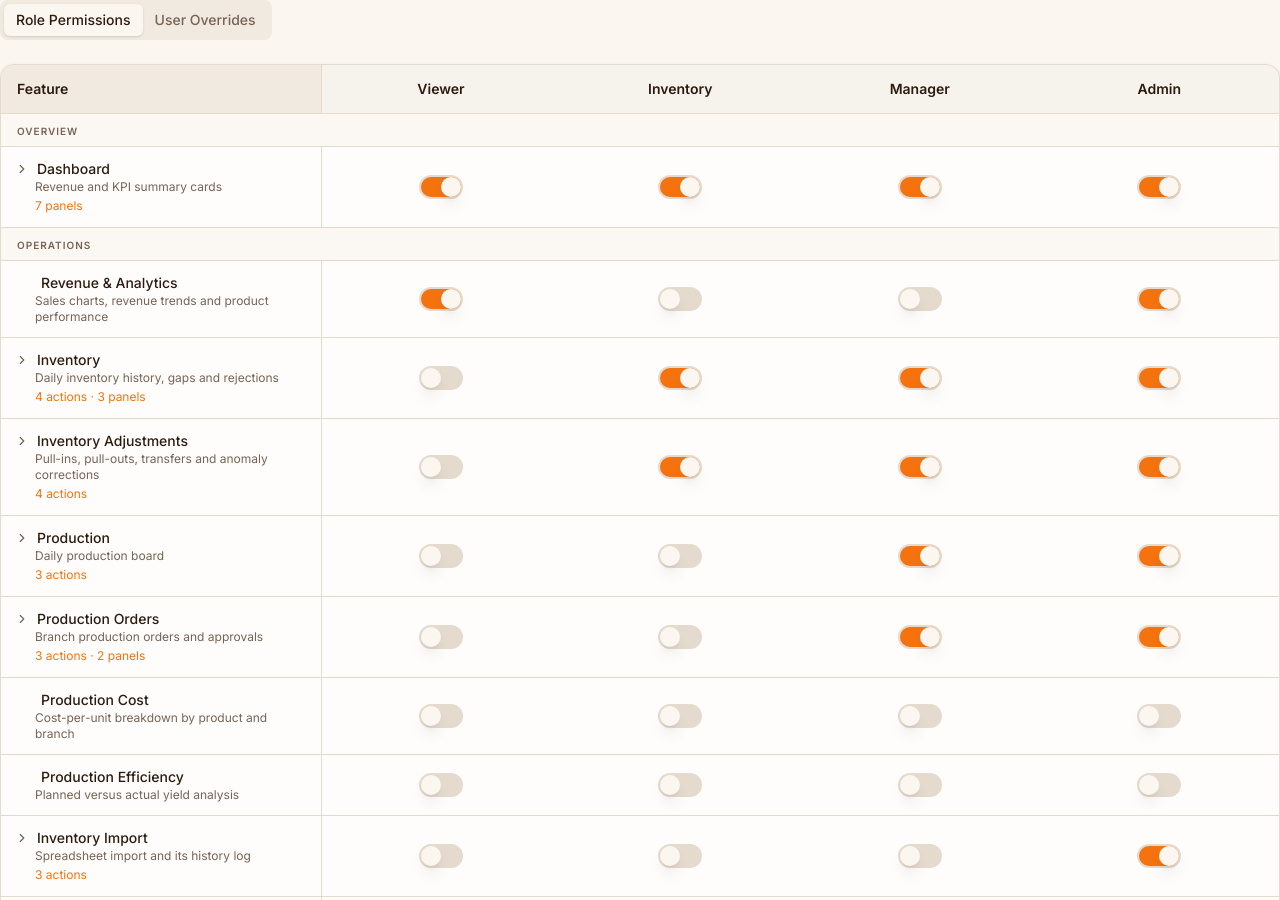
it: Permissions screen — user overrides › loads the selected account and shows its role
Step 1. Click the tab "User Overrides" → [205, 20], box 142,4 -> 268,36
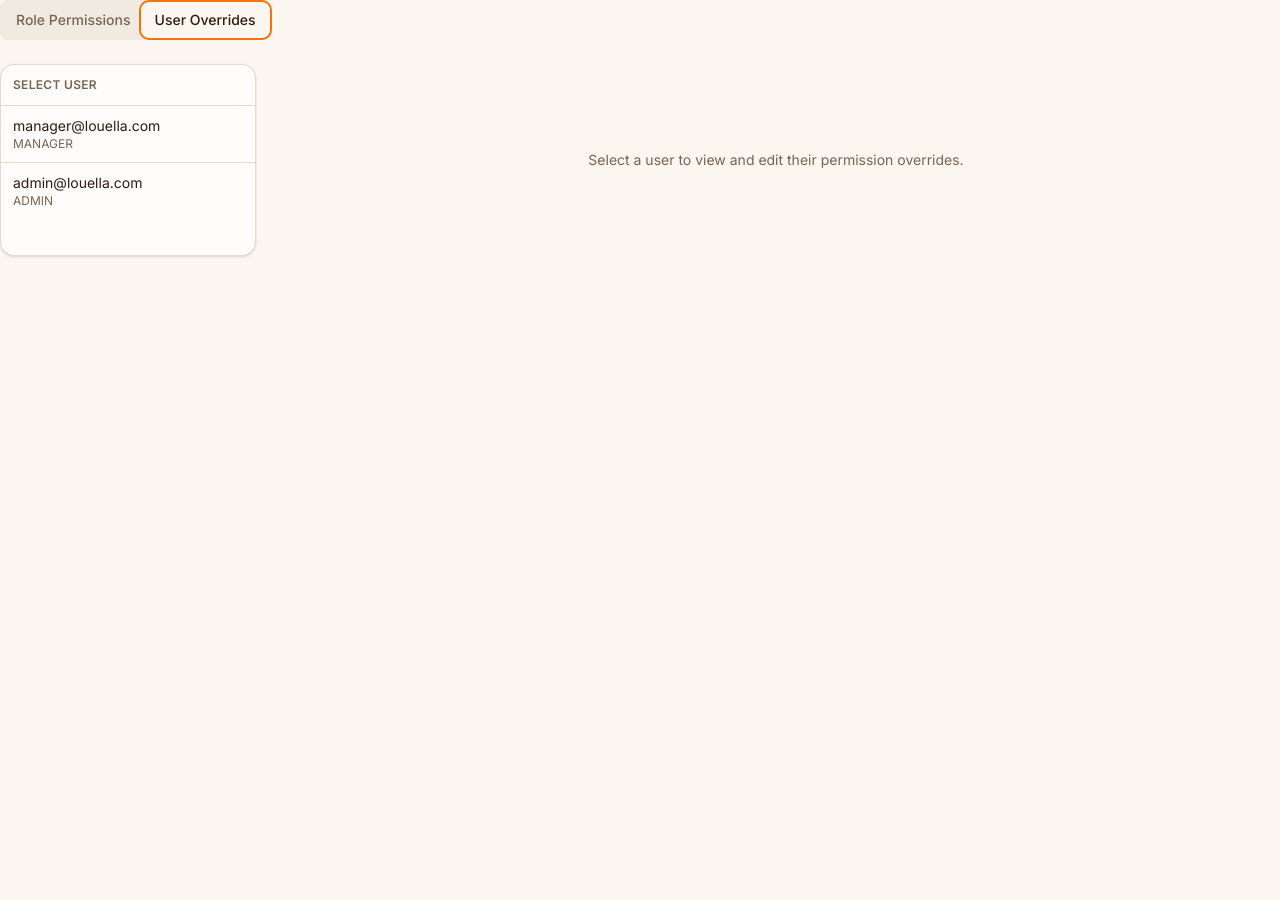
Now the text "Select User" is shown, box 13,77 -> 97,92
Now the text "manager@louella.com" is shown
Step 2. Click the text "manager@louella.com" → [87, 126], box 13,117 -> 160,134
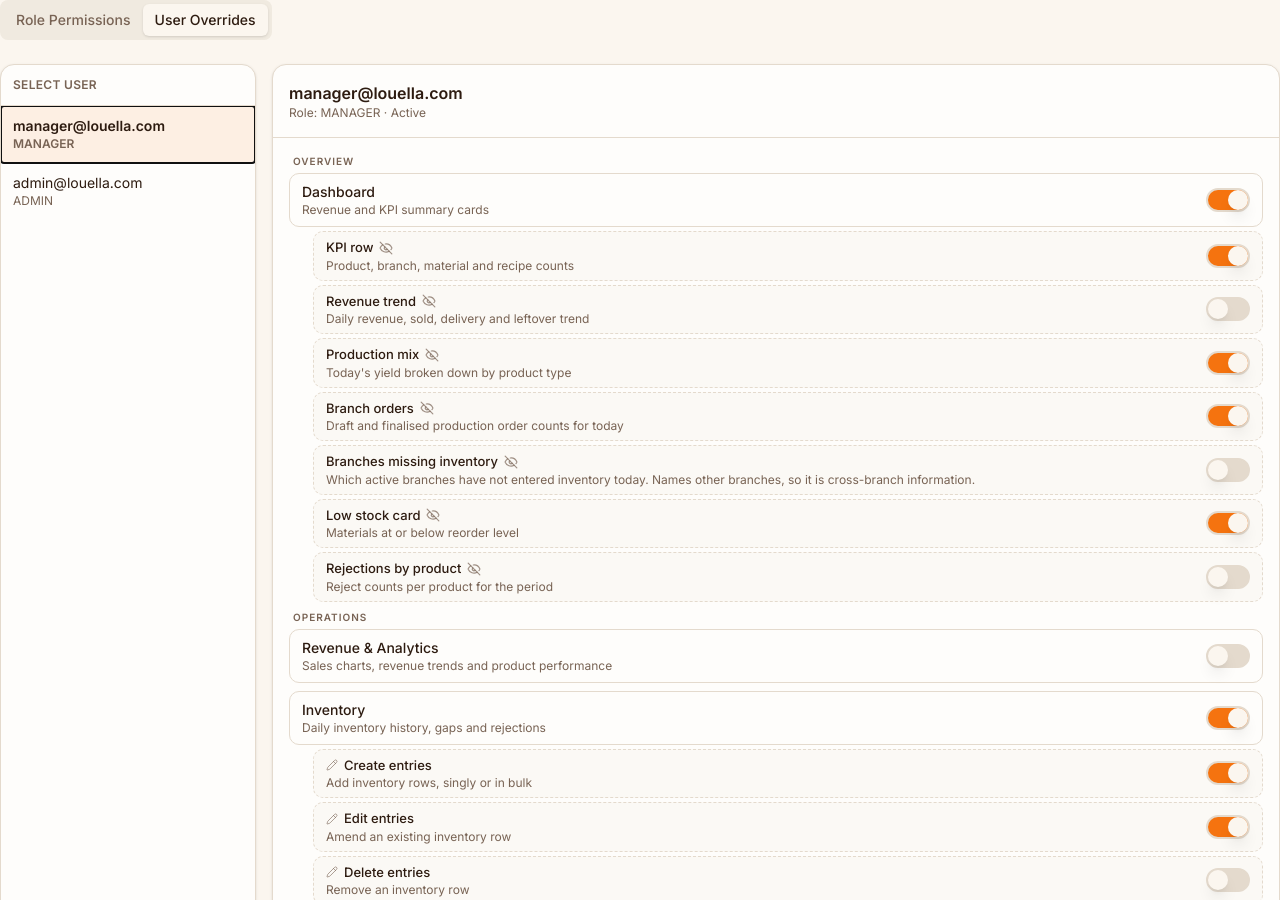
Now the text "Role: MANAGER · Active" is shown, box 289,105 -> 426,120
